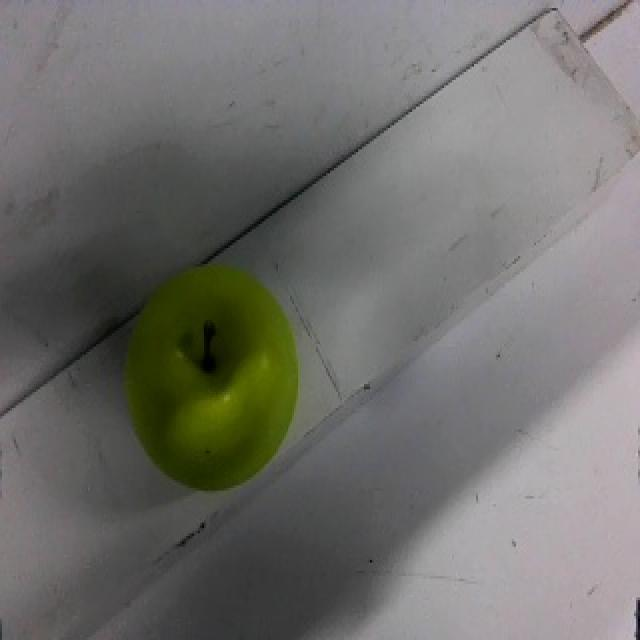apple: (122, 254, 302, 495)
